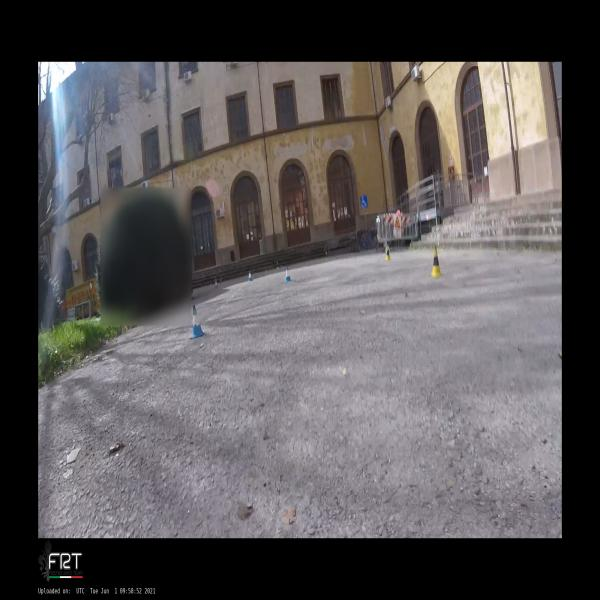blue_cone: (190, 304, 204, 340), (285, 266, 291, 283), (248, 270, 253, 282), (215, 279, 218, 289)
yellow_cone: (430, 246, 443, 277), (385, 245, 390, 261), (325, 251, 328, 260), (276, 261, 279, 269)
